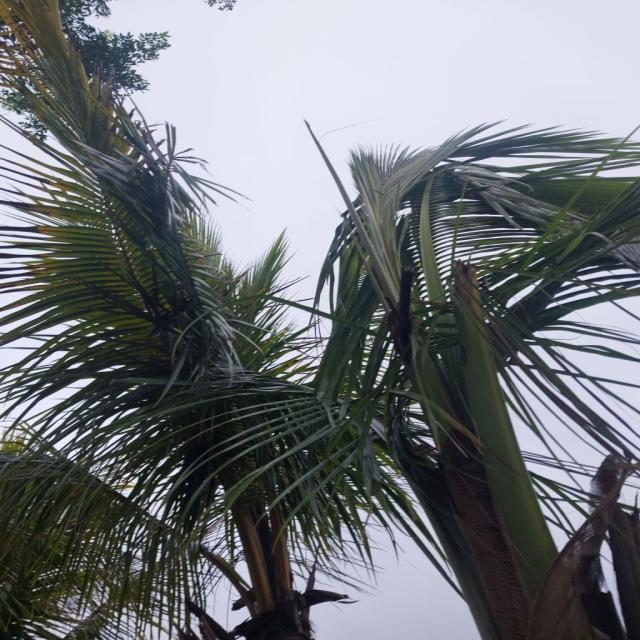bud root dropping: (314, 125, 638, 639)
